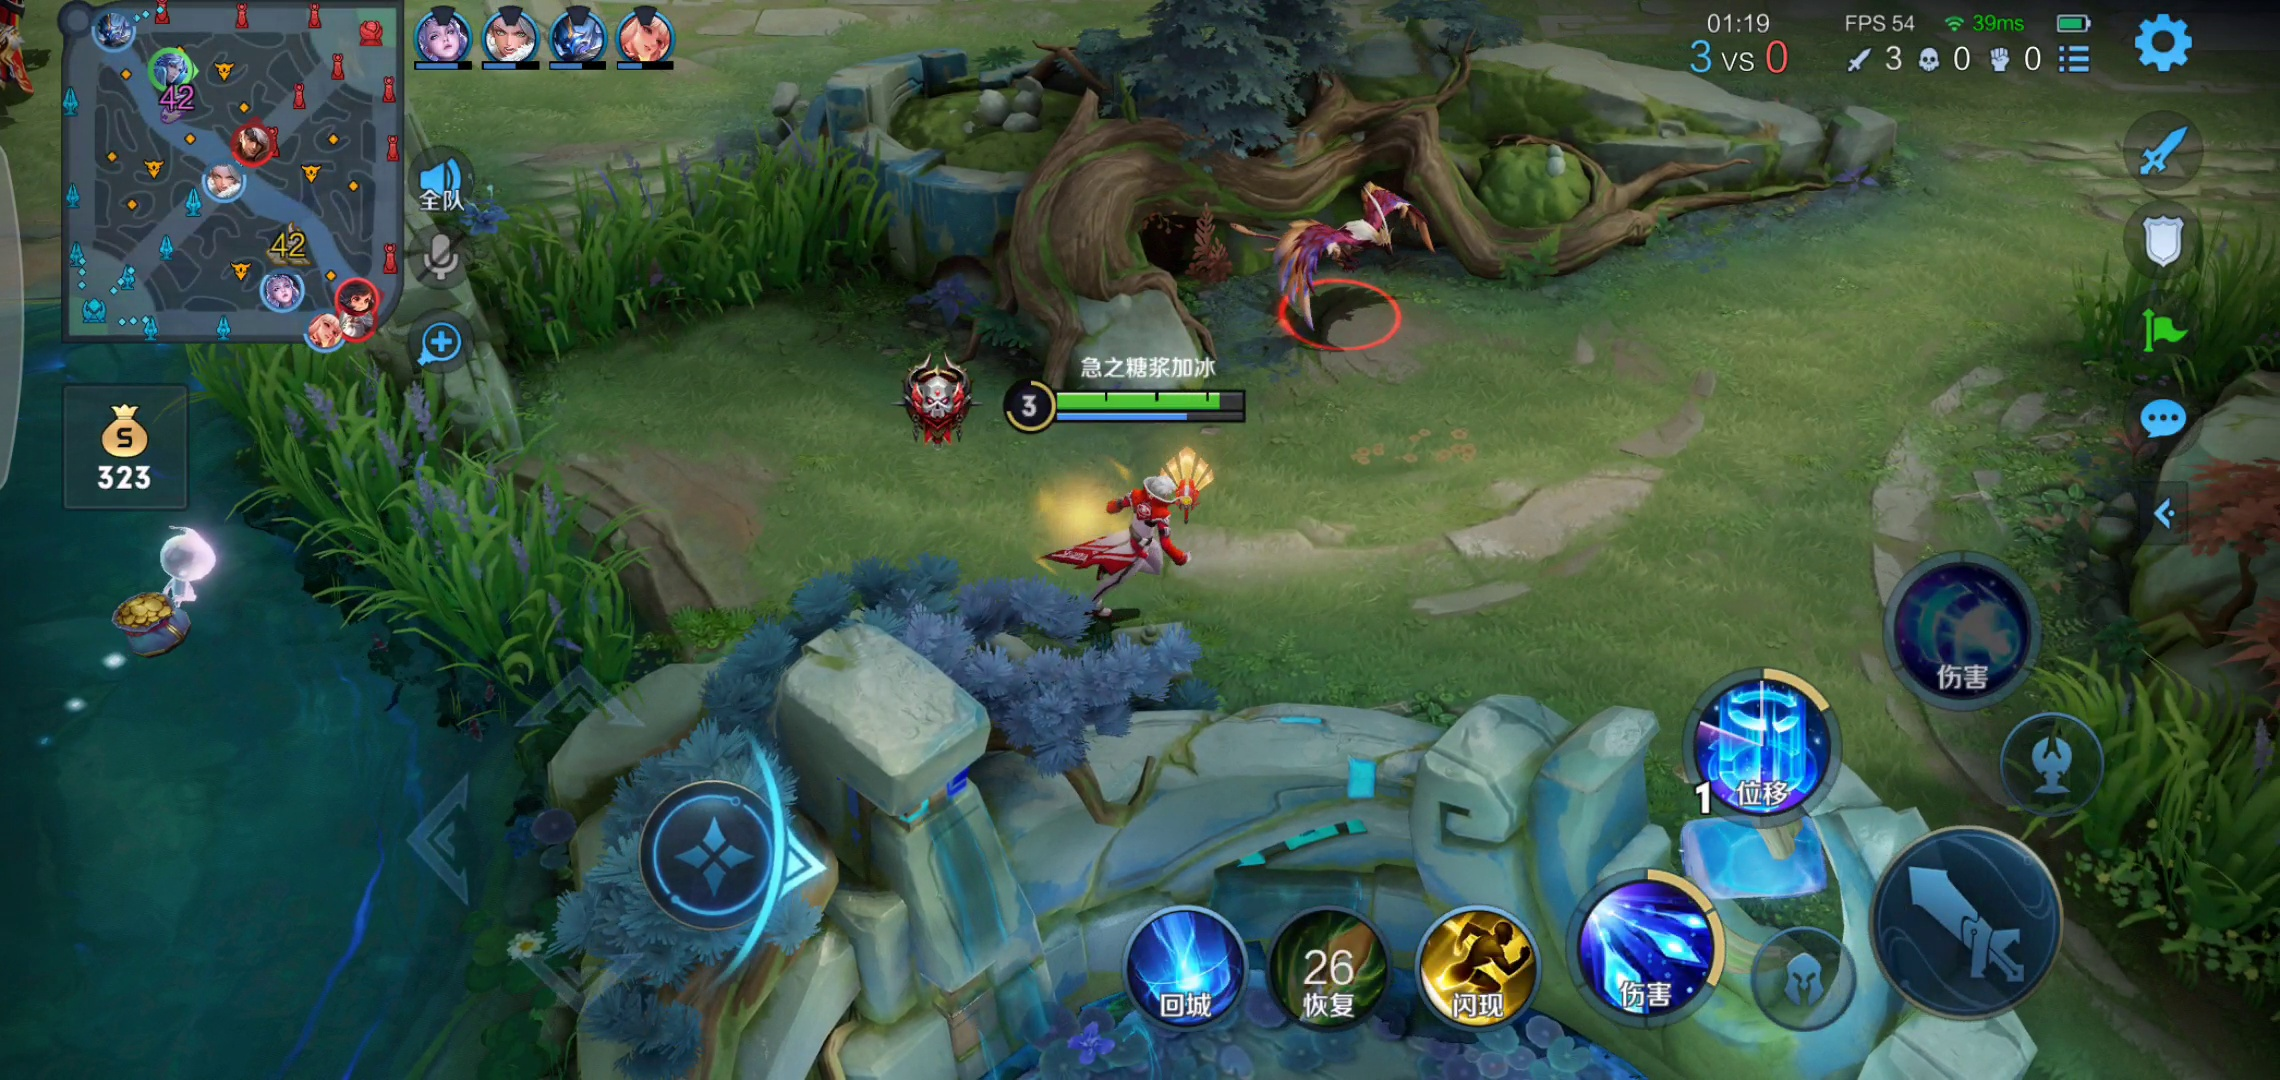grass: (195, 346, 627, 702), (470, 132, 884, 339), (2039, 651, 2279, 988), (2084, 188, 2280, 390)
hero: (1029, 443, 1216, 622)
wild_monster: (1239, 177, 1440, 340)
